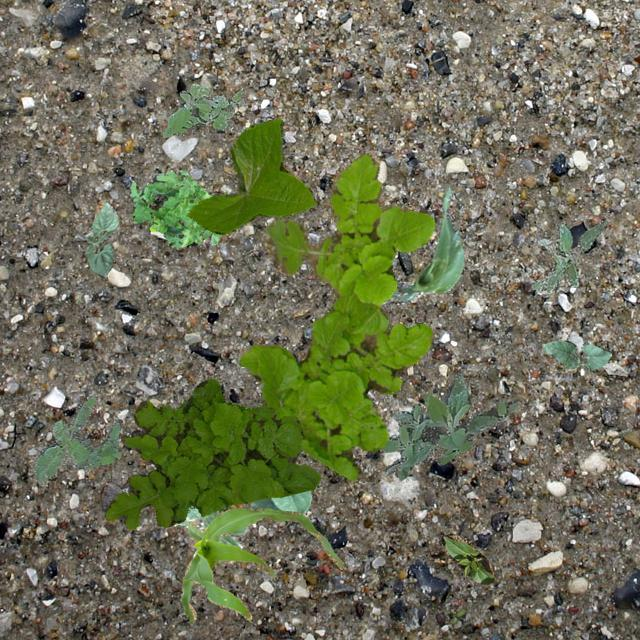crop: (180, 506, 342, 622), (187, 118, 316, 234), (380, 185, 462, 304), (172, 504, 246, 548), (440, 532, 494, 584), (85, 202, 118, 276), (540, 340, 610, 370), (250, 488, 312, 516)
weed: (236, 152, 434, 480), (103, 378, 320, 528), (380, 372, 518, 480), (30, 393, 121, 482), (128, 168, 220, 246), (531, 222, 601, 292), (162, 82, 246, 136)
